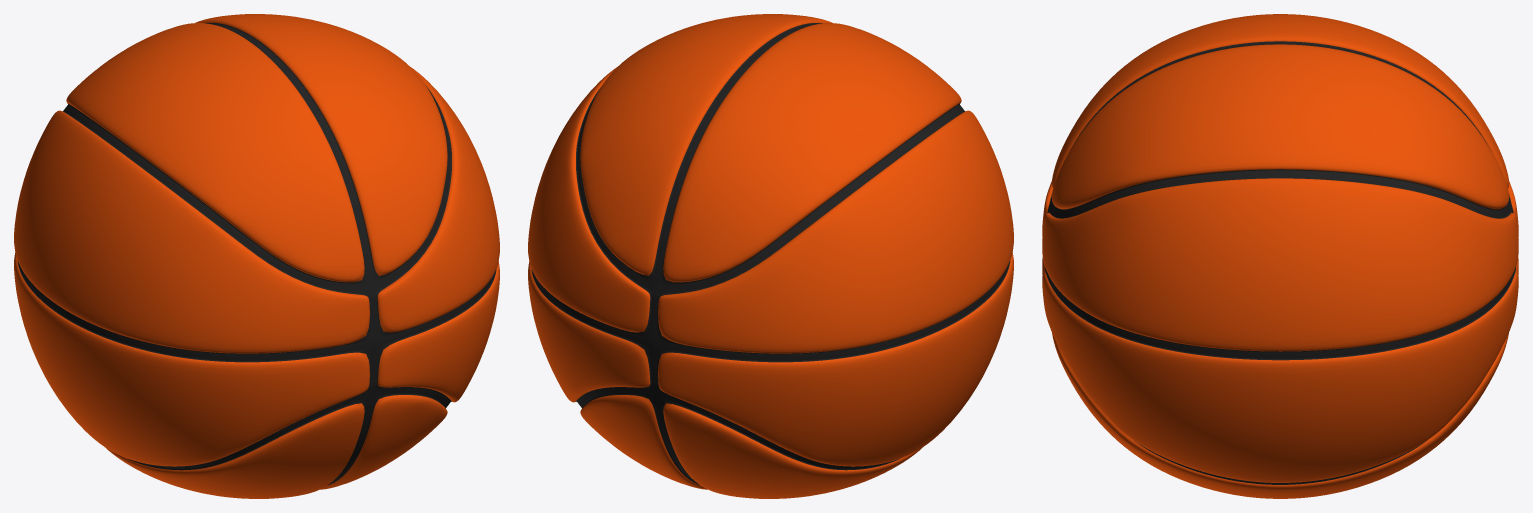
File: BasketBall.fbx
3 renders of one model, left to right at view 1: azimuth 30°, elevation 25°; view 2: azimuth 150°, elevation 25°; view 3: azimuth 270°, elevation 25°, orthographic.
Visible parts, largest first — view 1: basket_ball, basket_ball.001; view 2: basket_ball, basket_ball.001; view 3: basket_ball, basket_ball.001.
Part boxes in pixels (x1,y1,x2,y2): basket_ball: (14, 14, 499, 498); basket_ball.001: (17, 23, 496, 484); basket_ball: (528, 14, 1013, 498); basket_ball.001: (531, 23, 1010, 484); basket_ball: (1042, 14, 1518, 498); basket_ball.001: (1045, 41, 1515, 484).
Bounding box in the file's own units: 24 × 24 × 24.
